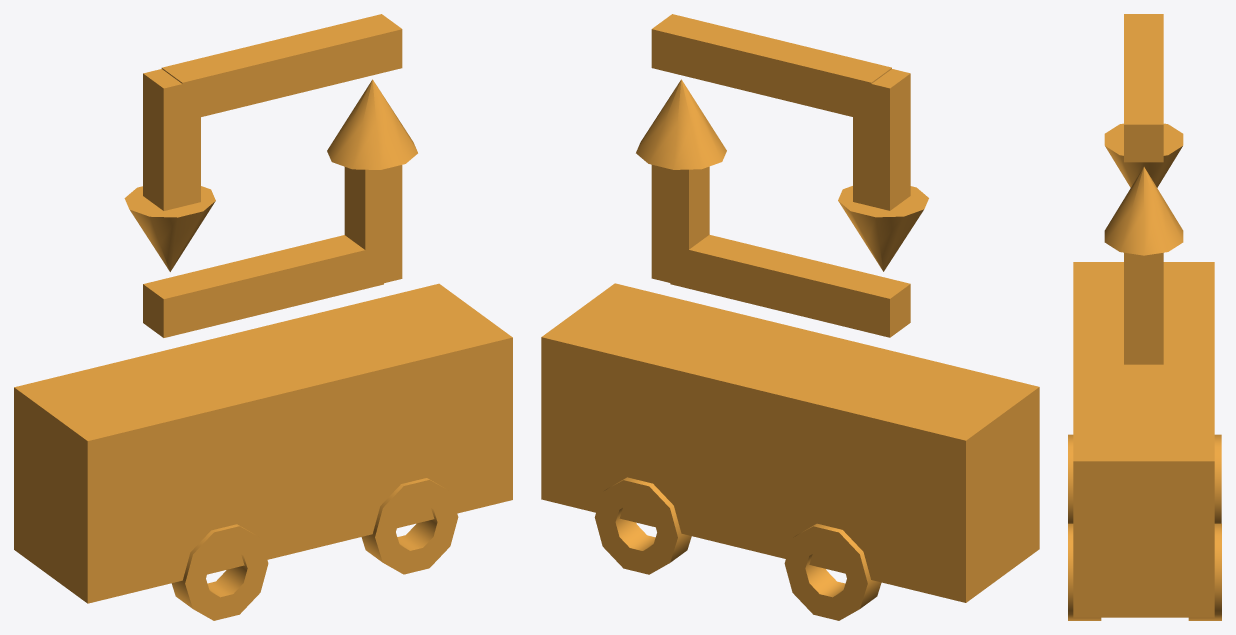
Rendered from Relief_Point.obj.
3 renders of one model, left to right at view 1: azimuth 30°, elevation 25°; view 2: azimuth 150°, elevation 25°; view 3: azimuth 270°, elevation 25°, orthographic. The views are drawn at different scales.
Visible parts, largest first — view 1: 000_Merged_Objects_3; view 2: 000_Merged_Objects_3; view 3: 000_Merged_Objects_3.
Part boxes in pixels (bbox=[...]): 000_Merged_Objects_3: bbox=[14, 14, 512, 620]; 000_Merged_Objects_3: bbox=[541, 14, 1039, 620]; 000_Merged_Objects_3: bbox=[1068, 14, 1221, 620].
Size of the model in its own units: 194 by 226 by 63.29.
